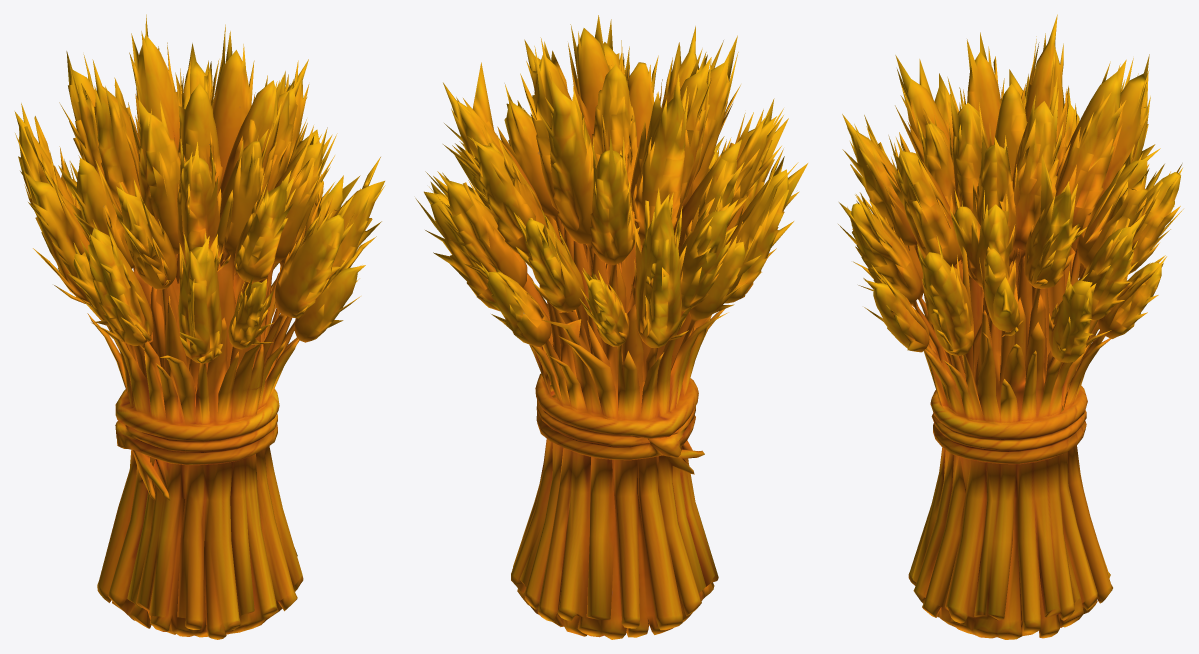
The model's file is wheat_sheaf.glb.
The picture shows the model from 3 angles, left to right: view 1: azimuth 30°, elevation 25°; view 2: azimuth 150°, elevation 25°; view 3: azimuth 270°, elevation 25°; orthographic projection. The views are drawn at different scales.
Parts seen in each view (by area): view 1: tripo_node_4234d412-e69a-4105-aa6c-4b01794ed251; view 2: tripo_node_4234d412-e69a-4105-aa6c-4b01794ed251; view 3: tripo_node_4234d412-e69a-4105-aa6c-4b01794ed251.
Boxes of the visible parts, x1=… form: tripo_node_4234d412-e69a-4105-aa6c-4b01794ed251: x1=14, y1=14, x2=385, y2=639; tripo_node_4234d412-e69a-4105-aa6c-4b01794ed251: x1=415, y1=15, x2=807, y2=639; tripo_node_4234d412-e69a-4105-aa6c-4b01794ed251: x1=838, y1=14, x2=1183, y2=639.
Size of the model in its own units: 0.5651 by 0.9789 by 0.5497.
1 material, 1 textured.
